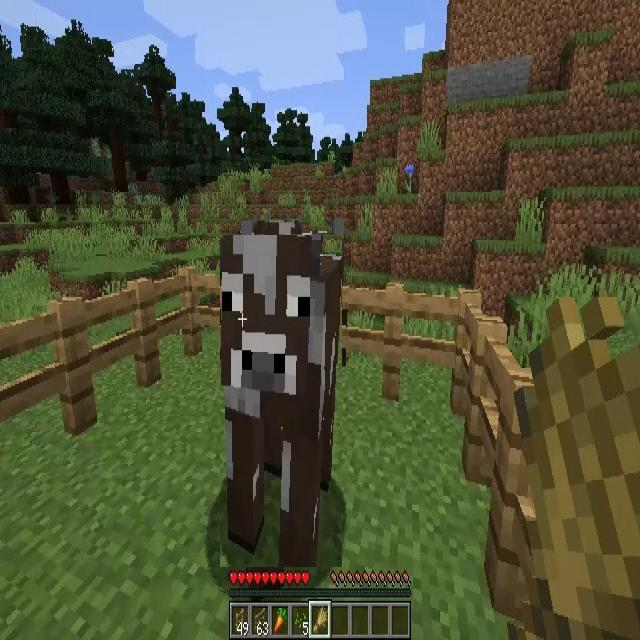cow: (220, 235, 342, 567)
